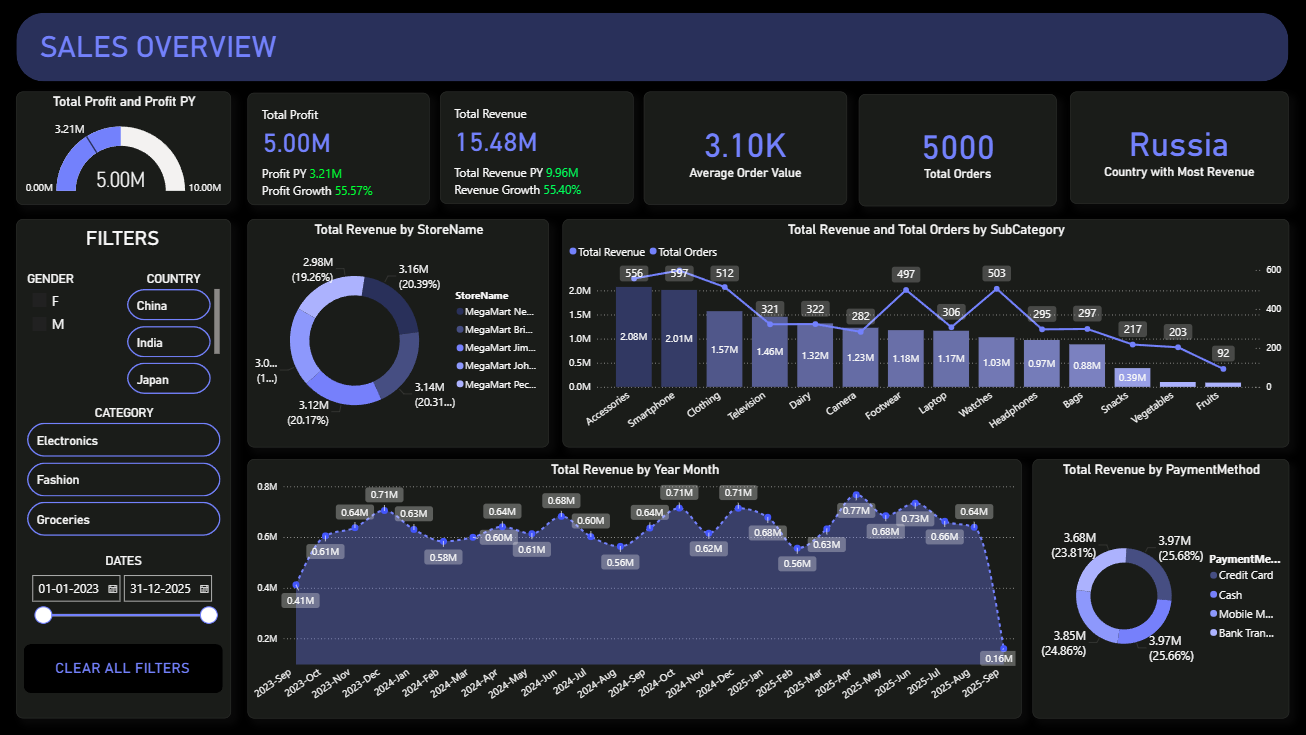

What the dashboard file says about the page in this screenshot:
{"tool":"powerbi","page":{"name":"Sales Overview","canvas":[1920,1080],"ordinal":0},"visuals":[{"type":"lineChart","fields":{"Y":["Measures Table.Total Revenue"],"Category":["Dates.Year Month"]},"box":[362.3,675.1,1136.2,380.8],"z":0},{"type":"cardVisual","fields":{"Data":["Measures Table.Total Revenue"]},"box":[646.3,135.8,284,164.7],"z":1000},{"type":"cardVisual","fields":{"Data":["Measures Table.Total Profit"]},"box":[362.3,137.9,267.6,164.7],"z":2000},{"type":"card","fields":{"Values":["Measures Table.Total Orders"]},"box":[1259.7,140,290.2,164.7],"z":3000},{"type":"card","fields":{"Values":["Measures Table.Average Order Value"]},"box":[944.8,135.8,298.5,166.7],"z":4000},{"type":"gauge","fields":{"Y":["Measures Table.Total Profit"],"TargetValue":["Measures Table.Profir PY"]},"box":[24.7,135.8,314.9,166.7],"z":5000},{"type":"donutChart","fields":{"Y":["Measures Table.Total Revenue"],"Category":["transactions.PaymentMethod"]},"box":[1514.9,675.1,376.7,380.8],"z":6000},{"type":"lineStackedColumnComboChart","fields":{"Category":["products.SubCategory","products.Category"],"Y":["Measures Table.Total Revenue"],"Y2":["Measures Table.Total Orders"]},"box":[825.4,323.2,1066.2,335.5],"z":7000},{"type":"donutChart","fields":{"Category":["stores.StoreName"],"Y":["Measures Table.Total Revenue"]},"box":[362.3,323.2,442.5,335.5],"z":8000},{"type":"shape","box":[24.7,20.6,1866.9,100.9],"z":9000},{"type":"card","fields":{"Values":["Min(stores.Country)"]},"box":[1570.5,135.8,321.1,164.7],"z":10000},{"type":"shape","box":[24.7,323.2,314.9,732.8],"z":10000,"group":"g1"},{"type":"group","id":"g1","title":"Group 1","box":[24.7,323.2,314.9,732.8],"z":11000},{"type":"textbox","box":[53.5,41.2,504.3,59.7],"z":12000},{"type":"advancedSlicerVisual","title":"COUNTRY","fields":{"Values":["stores.Country"]},"box":[183.2,399.4,146.1,187.3],"z":12000,"group":"g1"},{"type":"advancedSlicerVisual","title":"CATEGORY","fields":{"Values":["products.Category"]},"box":[35,597,294.3,199.7],"z":13000,"group":"g1"},{"type":"slicer","title":"GENDER","fields":{"Values":["customers.Gender"]},"box":[35,399.4,148.2,160.5],"z":14000,"group":"g1"},{"type":"slicer","title":"DATES","fields":{"Values":["Dates.Date"]},"box":[35,815.1,292.3,117.3],"z":15000,"group":"g1"},{"type":"shape","title":"CLEAR ALL FILTER","box":[35,946.9,292.3,72],"z":16000,"group":"g1"},{"type":"textbox","box":[53.5,965.4,253.2,35],"z":17000,"group":"g1"},{"type":"textbox","box":[39.1,328,282,43.2],"z":18000,"group":"g1"}]}

Visuals, with their boxes in screenshot pixels (x1, y1, x2, y2), scaled from the page's 1920x1080 canvas onto the 1306x735 screenshot:
lineChart - Measures Table.Total Revenue x Dates.Year Month: locate(246, 459, 1019, 719)
cardVisual - Measures Table.Total Revenue: locate(440, 92, 633, 205)
cardVisual - Measures Table.Total Profit: locate(246, 94, 428, 206)
card - Measures Table.Total Orders: locate(857, 95, 1054, 207)
card - Measures Table.Average Order Value: locate(643, 92, 846, 206)
gauge - Measures Table.Total Profit x Measures Table.Profir PY: locate(17, 92, 231, 206)
donutChart - Measures Table.Total Revenue x transactions.PaymentMethod: locate(1030, 459, 1287, 719)
lineStackedColumnComboChart - products.SubCategory x products.Category: locate(561, 220, 1287, 448)
donutChart - stores.StoreName x Measures Table.Total Revenue: locate(246, 220, 547, 448)
shape: locate(17, 14, 1287, 83)
card - Min(stores.Country): locate(1068, 92, 1287, 205)
shape: locate(17, 220, 231, 719)
"Group 1" group: locate(17, 220, 231, 719)
textbox: locate(36, 28, 379, 69)
"COUNTRY" advancedSlicerVisual: locate(125, 272, 224, 399)
"CATEGORY" advancedSlicerVisual: locate(24, 406, 224, 542)
"GENDER" slicer: locate(24, 272, 125, 381)
"DATES" slicer: locate(24, 555, 223, 635)
"CLEAR ALL FILTER" shape: locate(24, 644, 223, 693)
textbox: locate(36, 657, 209, 681)
textbox: locate(27, 223, 218, 253)
